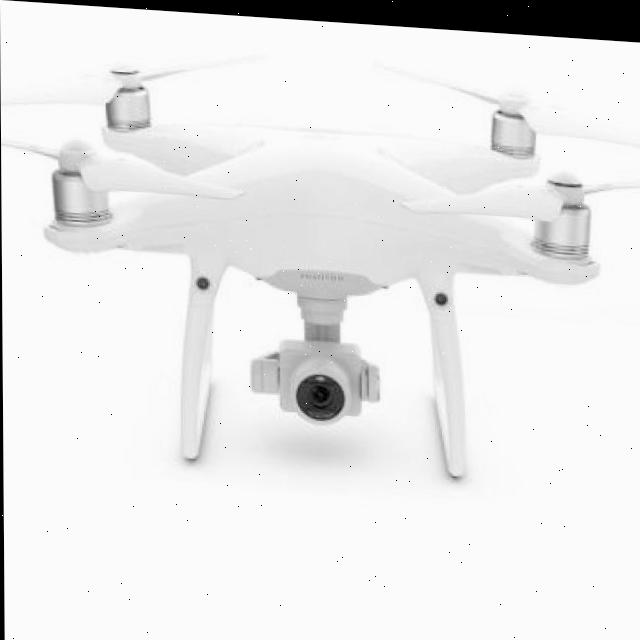drone: (21, 58, 626, 510)
